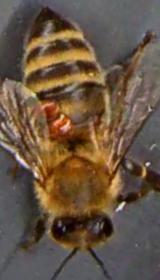varroa_mite: (44, 110, 74, 142), (36, 90, 67, 116)
